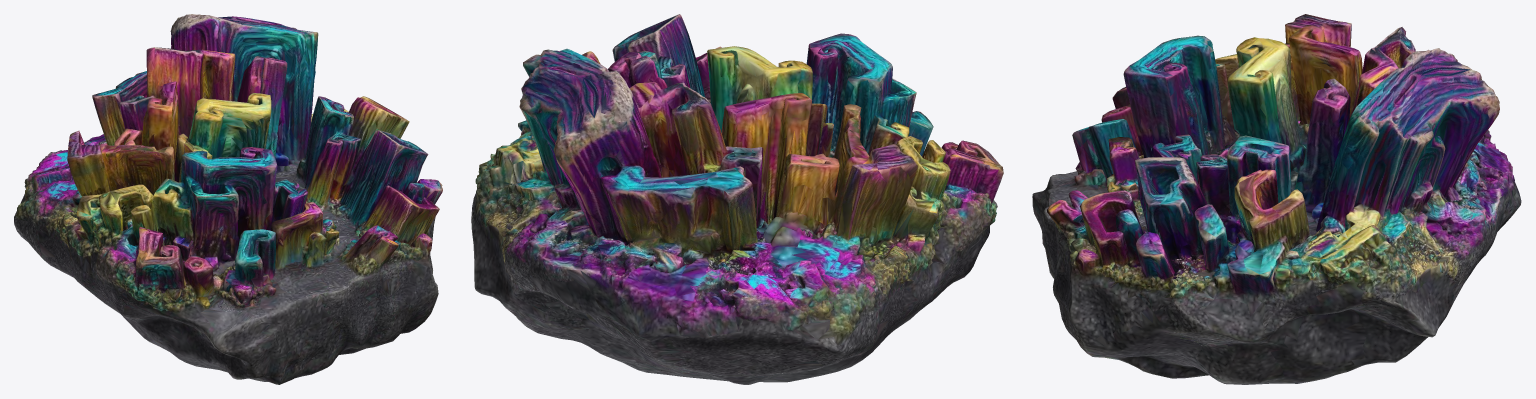
Rendered from Rainbow_Bismuth_Citad.glb.
3 renders of one model, left to right at view 1: azimuth 30°, elevation 25°; view 2: azimuth 150°, elevation 25°; view 3: azimuth 270°, elevation 25°, orthographic. The views are drawn at different scales.
Visible parts, largest first — view 1: Rainbow_Bismuth_Citad; view 2: Rainbow_Bismuth_Citad; view 3: Rainbow_Bismuth_Citad.
Part boxes in pixels (left/top/right/bottom): Rainbow_Bismuth_Citad: left=14, top=14, right=442, bottom=384; Rainbow_Bismuth_Citad: left=471, top=14, right=1003, bottom=384; Rainbow_Bismuth_Citad: left=1032, top=14, right=1521, bottom=384.
Size of the model in its own units: 1.78 by 1.36 by 1.9.
Materials: 1 (1 with a texture image).
